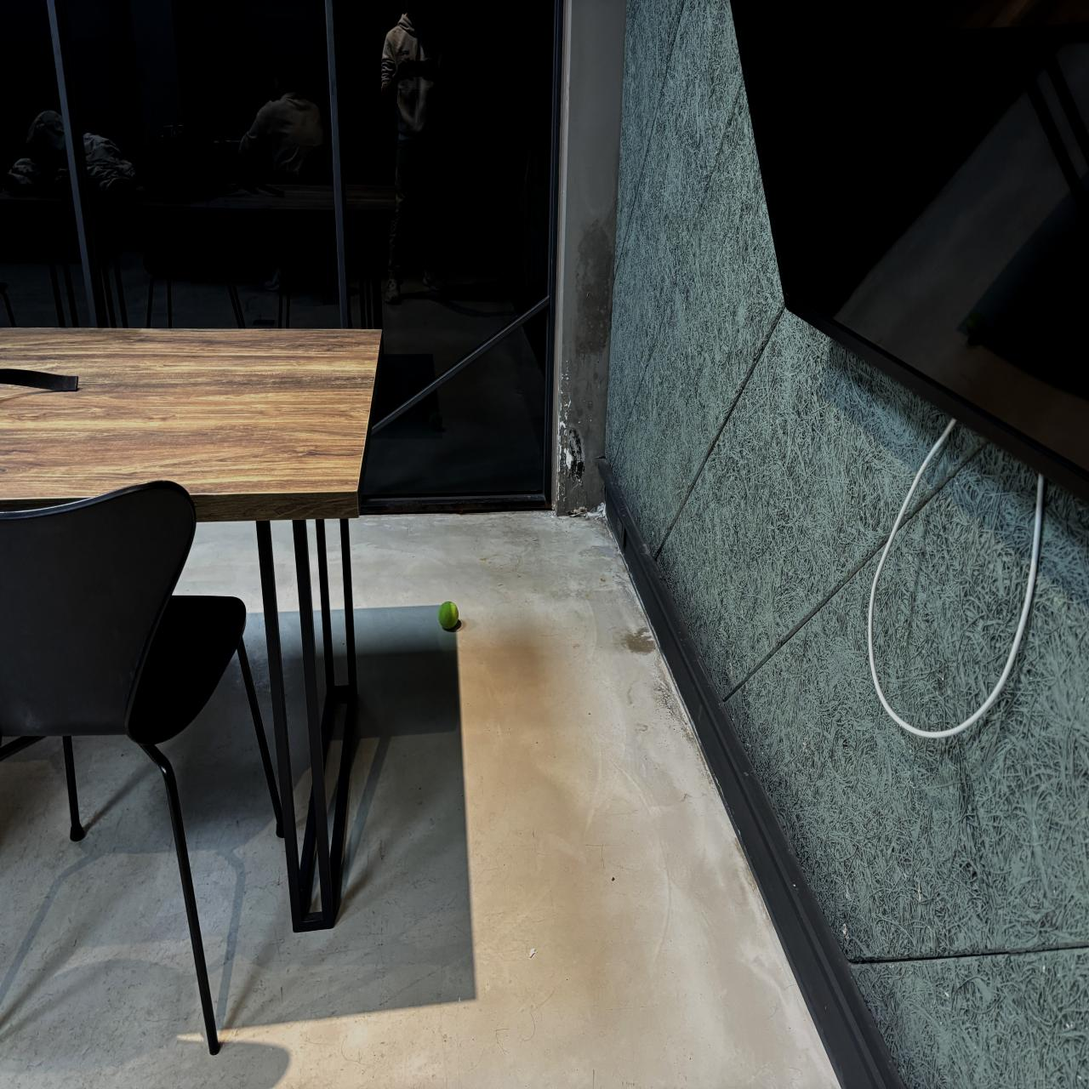tennisball: (438, 602, 459, 630)
